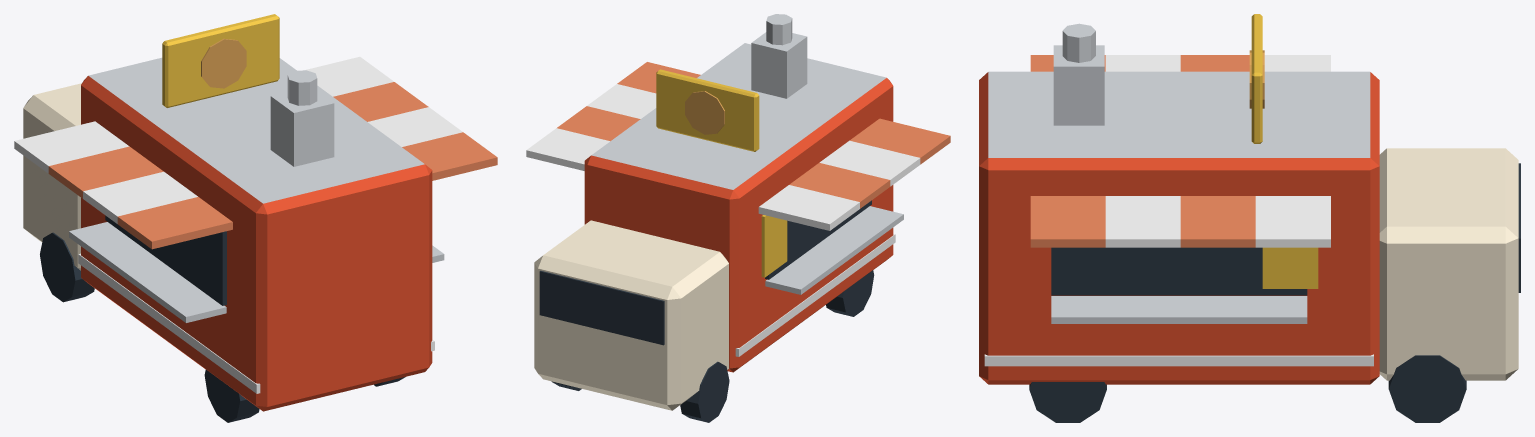
The model's file is truck_starter.fbx.
3 views of the same model, side by side, from view 1: azimuth 30°, elevation 25°; view 2: azimuth 150°, elevation 25°; view 3: azimuth 270°, elevation 25° (orthographic). The views are drawn at different scales.
Visible parts, largest first — view 1: truck_starter; view 2: truck_starter; view 3: truck_starter.
Part boxes in pixels (bbox=[...]): truck_starter: bbox=[14, 14, 497, 422]; truck_starter: bbox=[526, 14, 950, 422]; truck_starter: bbox=[979, 14, 1520, 422].
Size of the model in its own units: 4.7 by 4.13 by 5.85.
